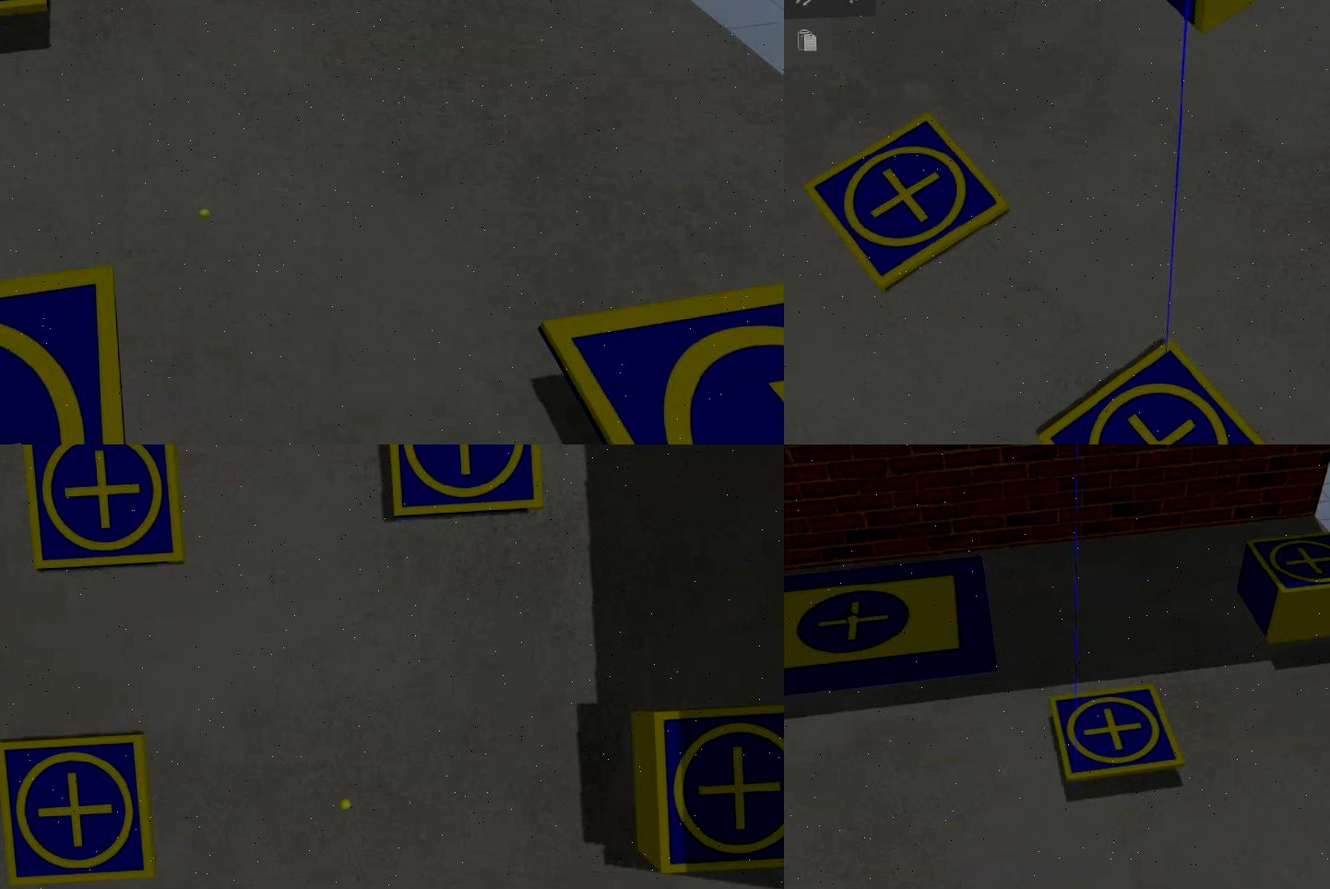large_base: (784, 561, 1001, 705)
small_base: (538, 271, 784, 445), (804, 113, 1015, 291), (1035, 336, 1287, 445), (1, 730, 162, 889), (647, 702, 784, 878), (1, 262, 128, 445), (18, 445, 187, 571), (1056, 691, 1187, 788), (388, 445, 542, 516), (1246, 531, 1330, 601)
